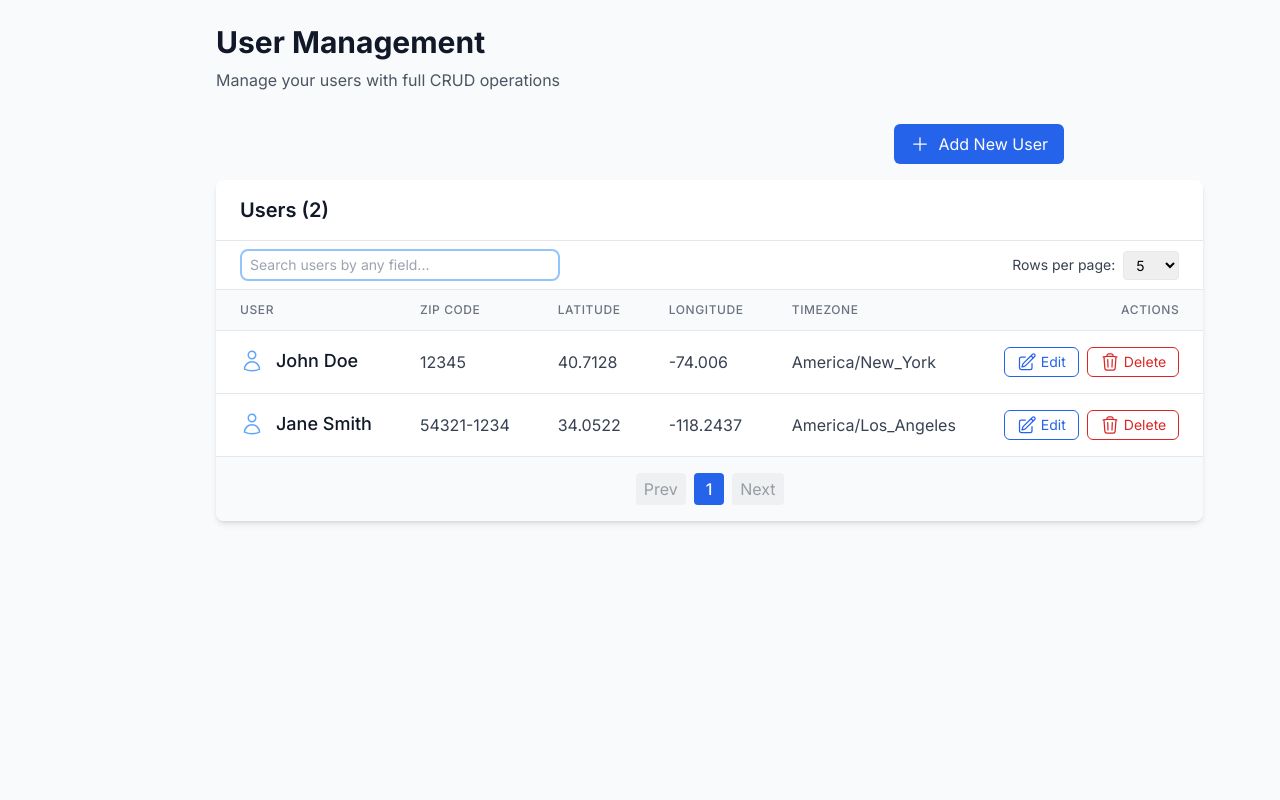
Scenario: UserCRUD Integration Tests › should open edit form when edit button is clicked
The image size is (1280, 800).
Expected: the text "John Doe" is shown, 276,347 -> 358,375
Click edit button for first user
Click the button "Edit" in the row of "John Doe" at (1041, 362), box 1004,347 -> 1079,377
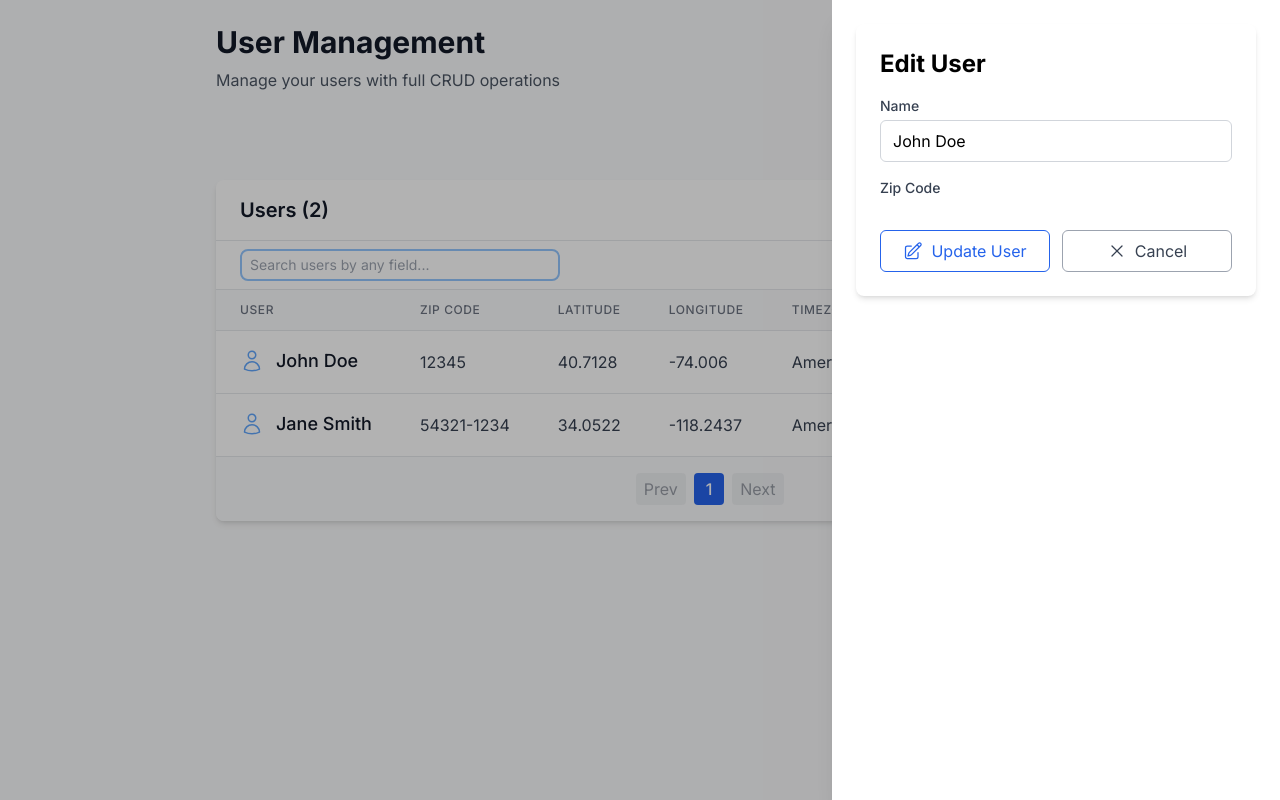
Expected: the heading "Edit User" is shown, 880,49 -> 986,78
Expected: the field showing "John Doe" is shown, 880,120 -> 1232,162
